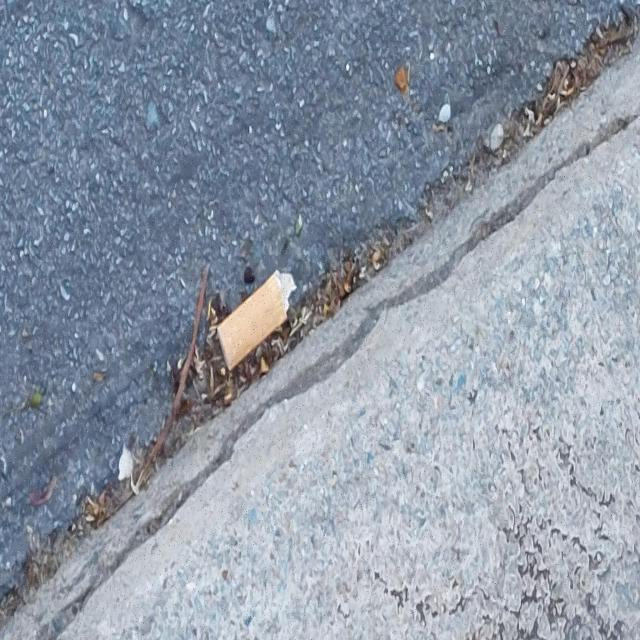other waste: (216, 267, 298, 372)
